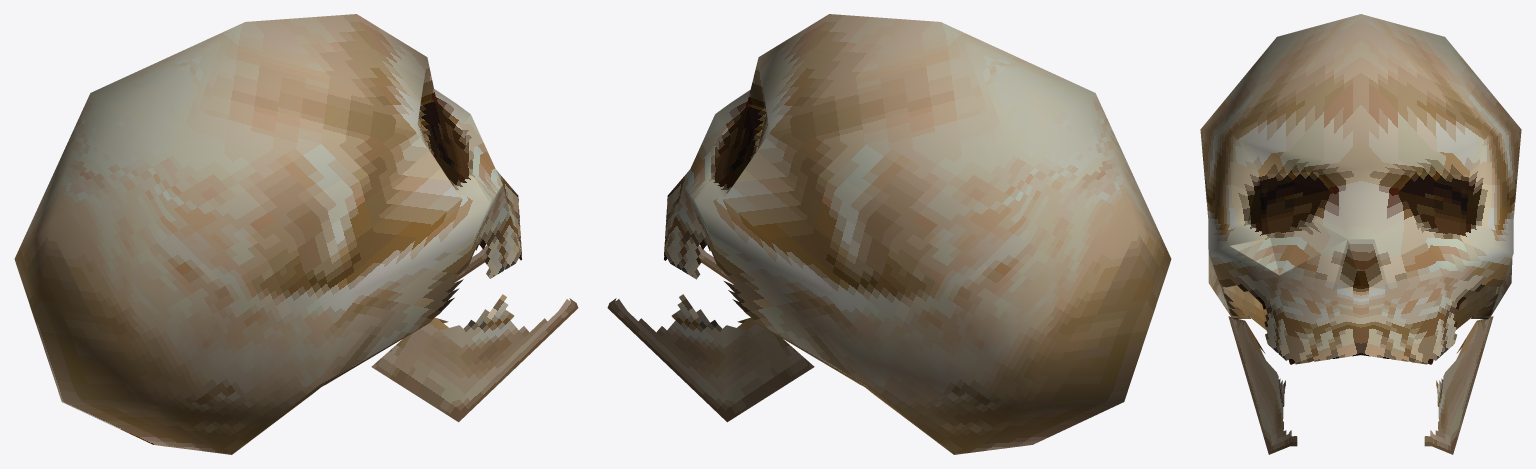
Rendered from battlegladeskullhuman1.obj.
3 views of the same model, side by side, from view 1: azimuth 30°, elevation 25°; view 2: azimuth 150°, elevation 25°; view 3: azimuth 270°, elevation 25° (orthographic). The views are drawn at different scales.
Visible parts, largest first — view 1: battlegladeskullhuman1; view 2: battlegladeskullhuman1; view 3: battlegladeskullhuman1.
Part boxes in pixels (x1,y1,x2,y2): battlegladeskullhuman1: [14, 14, 578, 454]; battlegladeskullhuman1: [607, 14, 1171, 454]; battlegladeskullhuman1: [1200, 14, 1521, 454].
Size of the model in its own units: 0.2833 by 0.2091 by 0.1652.
1 material, 1 textured.
